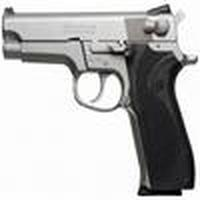gun: (1, 3, 197, 195)
